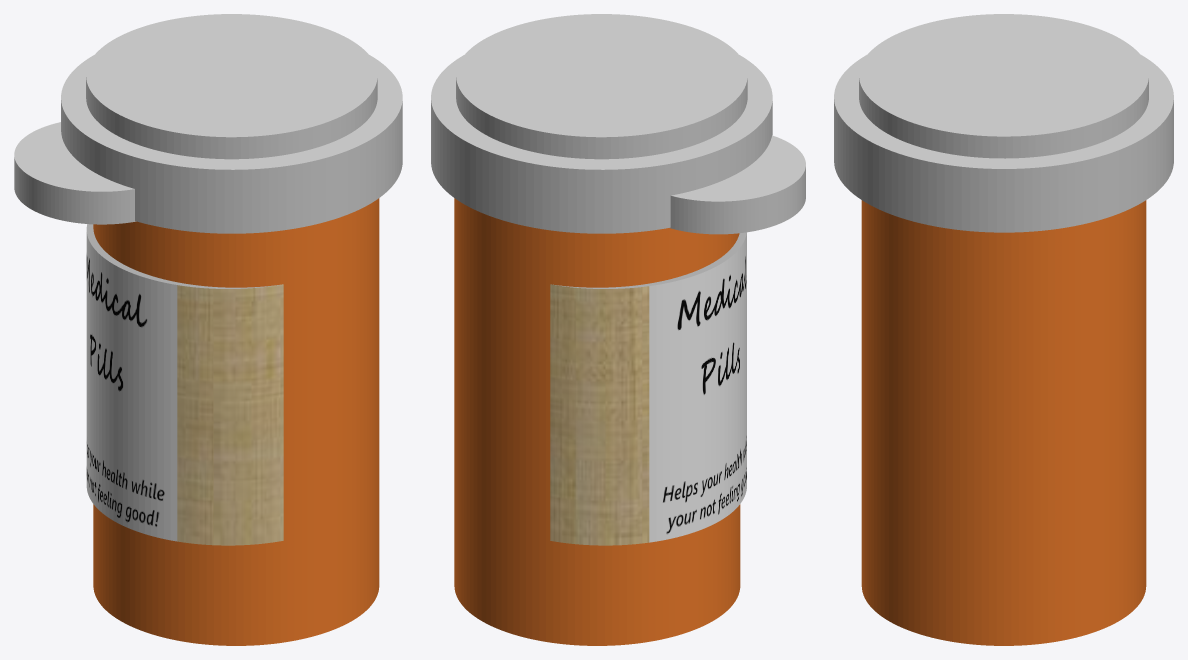
The model's file is medicalpills.glb.
The picture shows the model from 3 angles, left to right: view 1: azimuth 30°, elevation 25°; view 2: azimuth 150°, elevation 25°; view 3: azimuth 270°, elevation 25°; orthographic projection.
Parts seen in each view (by area): view 1: Mesh_2.002, Mesh_10, Mesh_9, Mesh_3, Mesh_4; view 2: Mesh_2.002, Mesh_10, Mesh_9, Mesh_3, Mesh_4; view 3: Mesh_2.002, Mesh_9, Mesh_3.
Boxes of the visible parts, x1,y1,x2,y2 form: Mesh_2.002: [93, 198, 379, 645]; Mesh_10: [86, 224, 283, 545]; Mesh_9: [86, 14, 377, 159]; Mesh_3: [61, 55, 402, 233]; Mesh_4: [14, 122, 136, 224]; Mesh_2.002: [454, 198, 740, 645]; Mesh_10: [550, 232, 746, 545]; Mesh_9: [456, 14, 747, 159]; Mesh_3: [431, 55, 772, 233]; Mesh_4: [670, 135, 805, 234]; Mesh_2.002: [861, 200, 1146, 645]; Mesh_9: [859, 14, 1148, 158]; Mesh_3: [834, 54, 1173, 232].
Bounding box in the file's own units: 0.0561 × 0.0789 × 0.0478.
5 materials, 2 textured.
